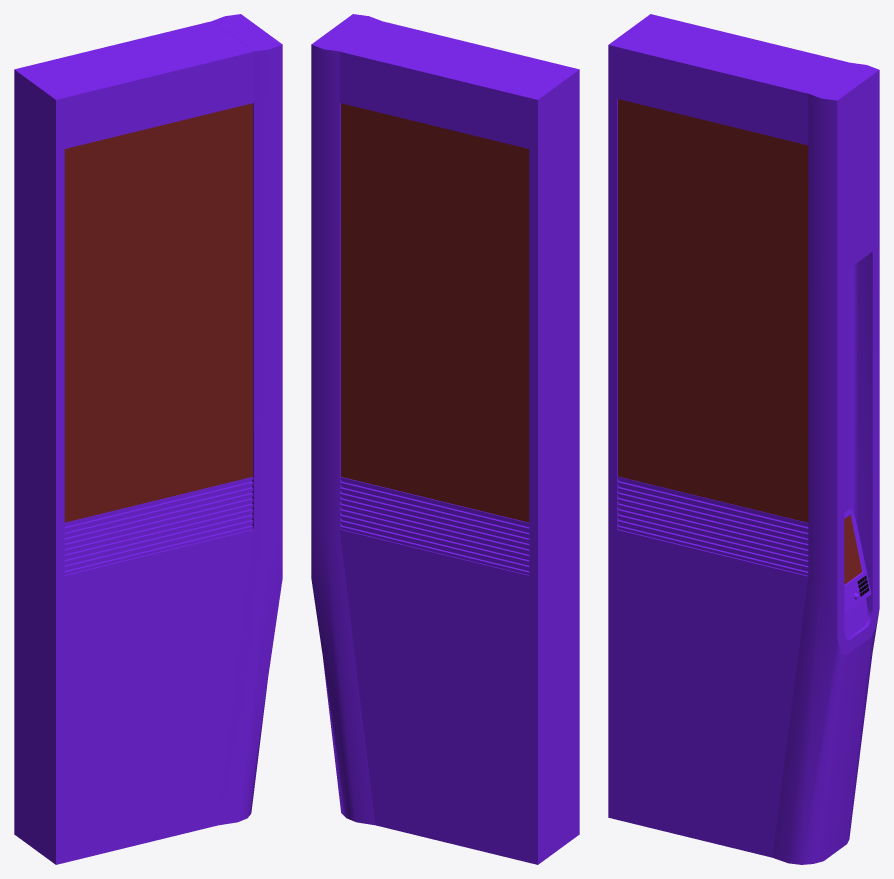
Rendered from SM_RSG_Subway_Charging_01.fbx.
The picture shows the model from 3 angles, left to right: view 1: azimuth 30°, elevation 25°; view 2: azimuth 150°, elevation 25°; view 3: azimuth 330°, elevation 25°; orthographic projection.
Visible parts, largest first — view 1: SM_RSG_Subway_Charging_01; view 2: SM_RSG_Subway_Charging_01; view 3: SM_RSG_Subway_Charging_01.
Part boxes in pixels (x1,y1,x2,y2): SM_RSG_Subway_Charging_01: [14, 14, 282, 864]; SM_RSG_Subway_Charging_01: [311, 14, 579, 864]; SM_RSG_Subway_Charging_01: [608, 14, 879, 864].
Bounding box in the file's own units: 89.95 × 290 × 31.11.
